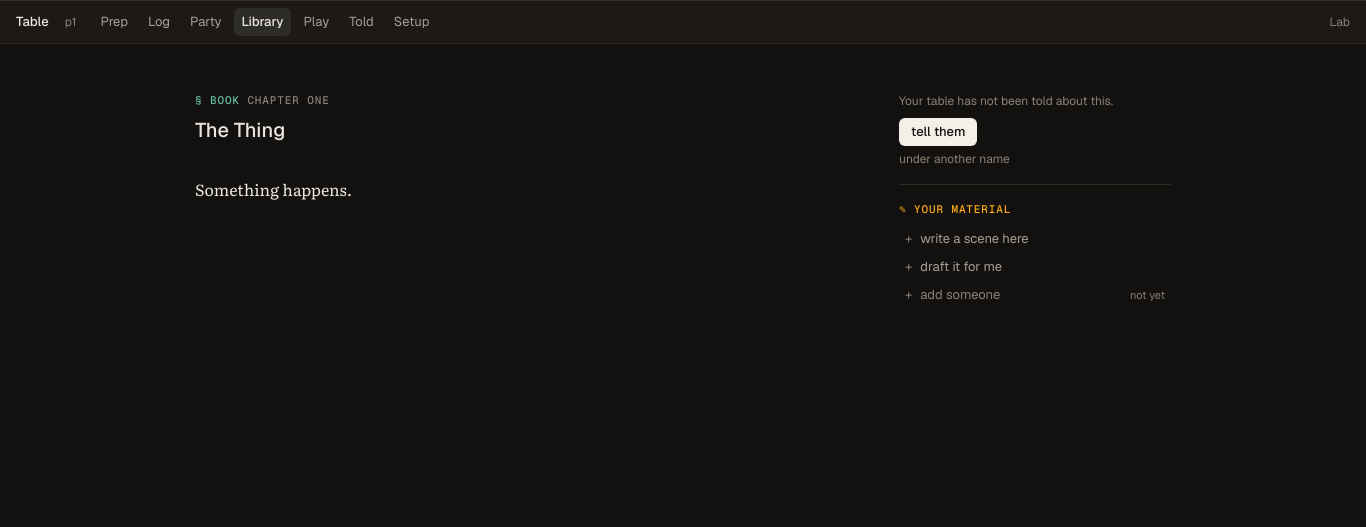
it: SectionPage draft/write mode isolation › shows drafting only while draft mode is open, and clears it on switching to write
Click the button "+ draft it for me": (961, 266) [899,253,1171,281]
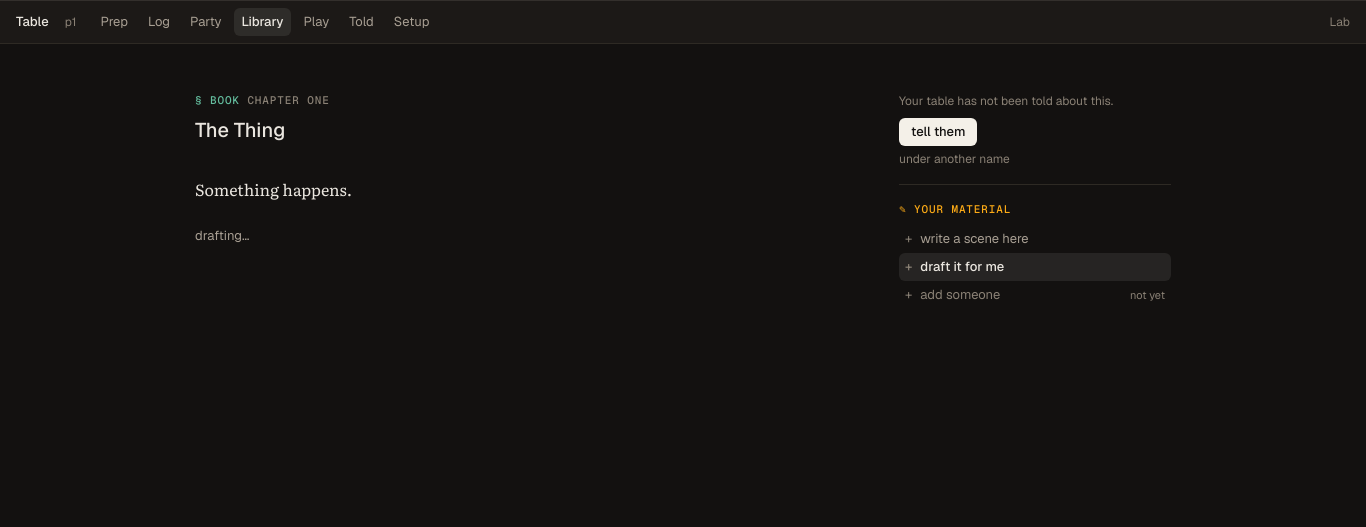
expect the text "drafting…" is shown: met, box [195,227,250,244]
Click the button "+ write a scene here": (974, 238) [899,225,1171,253]
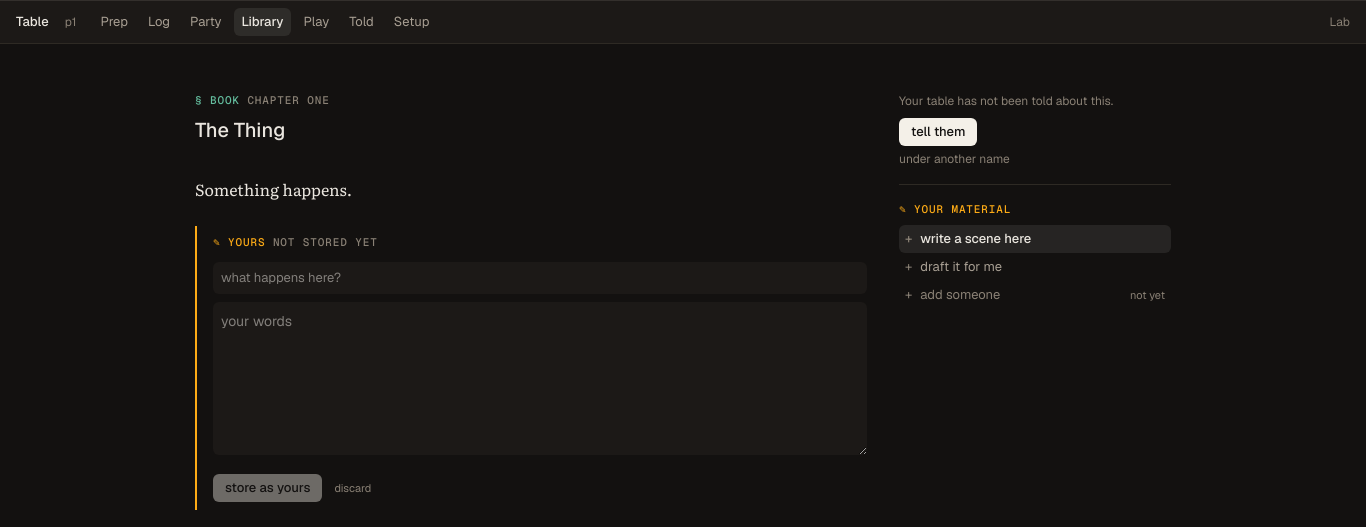
expect the text box with placeholder "your words" is shown: met, box [213,302,867,454]
expect the text "drafting…" is gone: met
